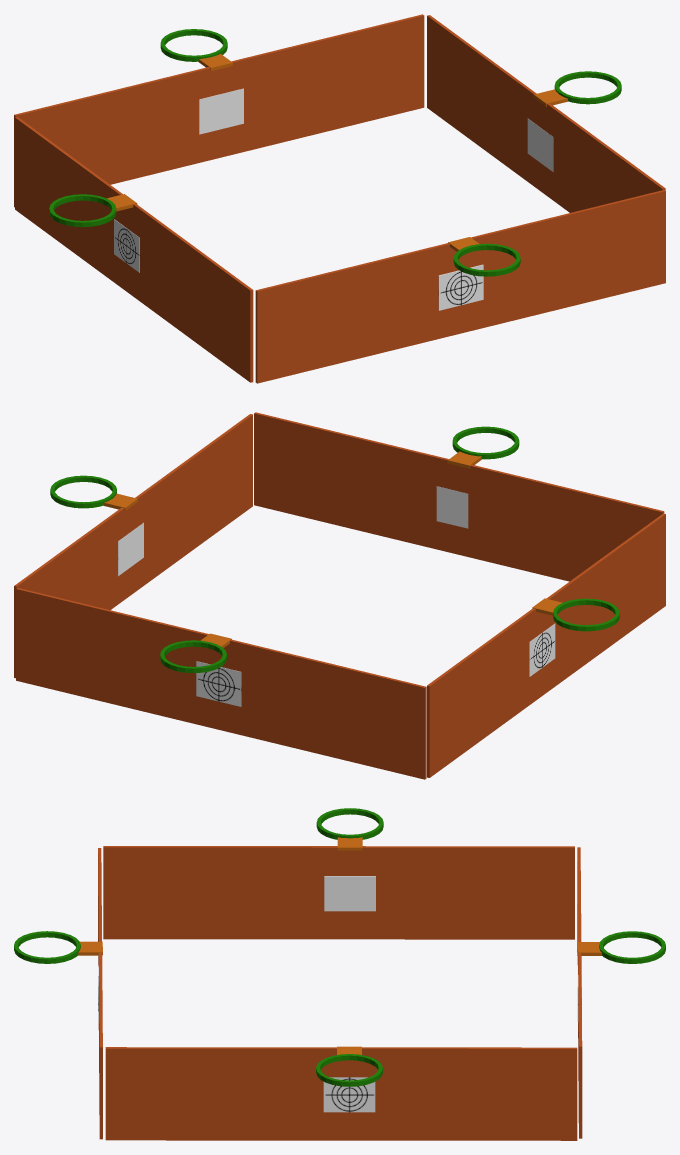
File: sick_robot_day_2014_inner_block_with_stations.dae
3 views of the same model, one above another, from view 1: azimuth 30°, elevation 25°; view 2: azimuth 150°, elevation 25°; view 3: azimuth 270°, elevation 25° (orthographic).
Visible parts, largest first — view 1: BoundaryBank_002, Cube_006, Cube_000, Cylinder_002, Cylinder_001, Cube_001, Cylinder, Cylinder_003, Cube_005; view 2: BoundaryBank_002, Cube_006, Cube_000, Cylinder_002, Cylinder_003, Cube_005, Cylinder, Cylinder_001, Cube_001; view 3: BoundaryBank_002, Cube_005, Cube_001, Cylinder, Cylinder_003, Cylinder_001, Cylinder_002.
Boxes of the visible parts, x1=… form: BoundaryBank_002: x1=14, y1=14, x2=665, y2=383; Cube_006: x1=199, y1=88, x2=243, y2=134; Cube_000: x1=438, y1=264, x2=483, y2=310; Cylinder_002: x1=49, y1=194, x2=116, y2=227; Cylinder_001: x1=453, y1=243, x2=520, y2=276; Cube_001: x1=527, y1=118, x2=553, y2=172; Cylinder: x1=554, y1=71, x2=621, y2=104; Cylinder_003: x1=160, y1=29, x2=227, y2=61; Cube_005: x1=114, y1=219, x2=139, y2=272; BoundaryBank_002: x1=14, y1=412, x2=665, y2=779; Cube_006: x1=196, y1=661, x2=241, y2=706; Cube_000: x1=436, y1=486, x2=468, y2=528; Cylinder_002: x1=553, y1=598, x2=619, y2=631; Cylinder_003: x1=160, y1=640, x2=226, y2=673; Cube_005: x1=529, y1=623, x2=555, y2=676; Cylinder: x1=50, y1=475, x2=116, y2=508; Cylinder_001: x1=452, y1=426, x2=519, y2=459; Cube_001: x1=118, y1=522, x2=143, y2=576; BoundaryBank_002: x1=98, y1=846, x2=582, y2=1140; Cube_005: x1=324, y1=876, x2=375, y2=911; Cube_001: x1=323, y1=1077, x2=375, y2=1112; Cylinder: x1=316, y1=1054, x2=382, y2=1086; Cylinder_003: x1=599, y1=931, x2=665, y2=963; Cylinder_001: x1=14, y1=931, x2=80, y2=963; Cylinder_002: x1=316, y1=808, x2=383, y2=839.
Size of the model in its own units: 3.2 by 3.21 by 0.5125.
Materials: 4 (1 with a texture image).
